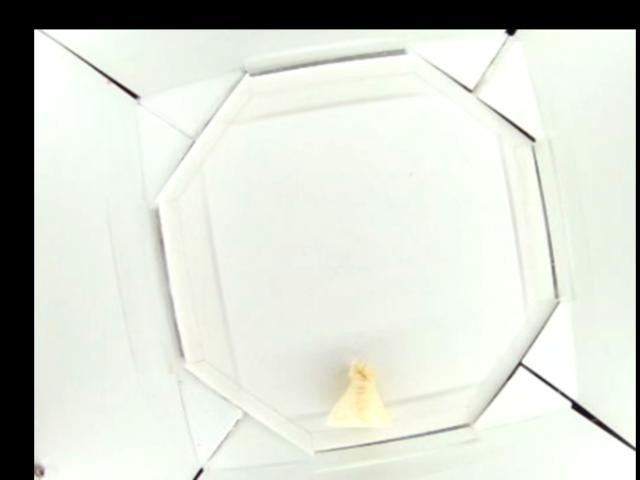Mooli: (323, 360, 394, 427)
